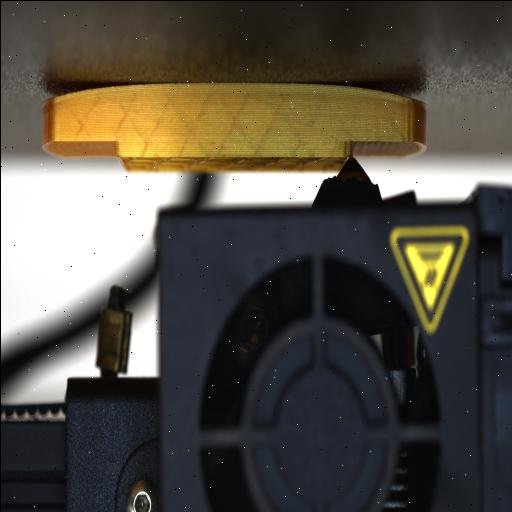warp: (370, 84, 428, 118), (32, 81, 92, 113)
